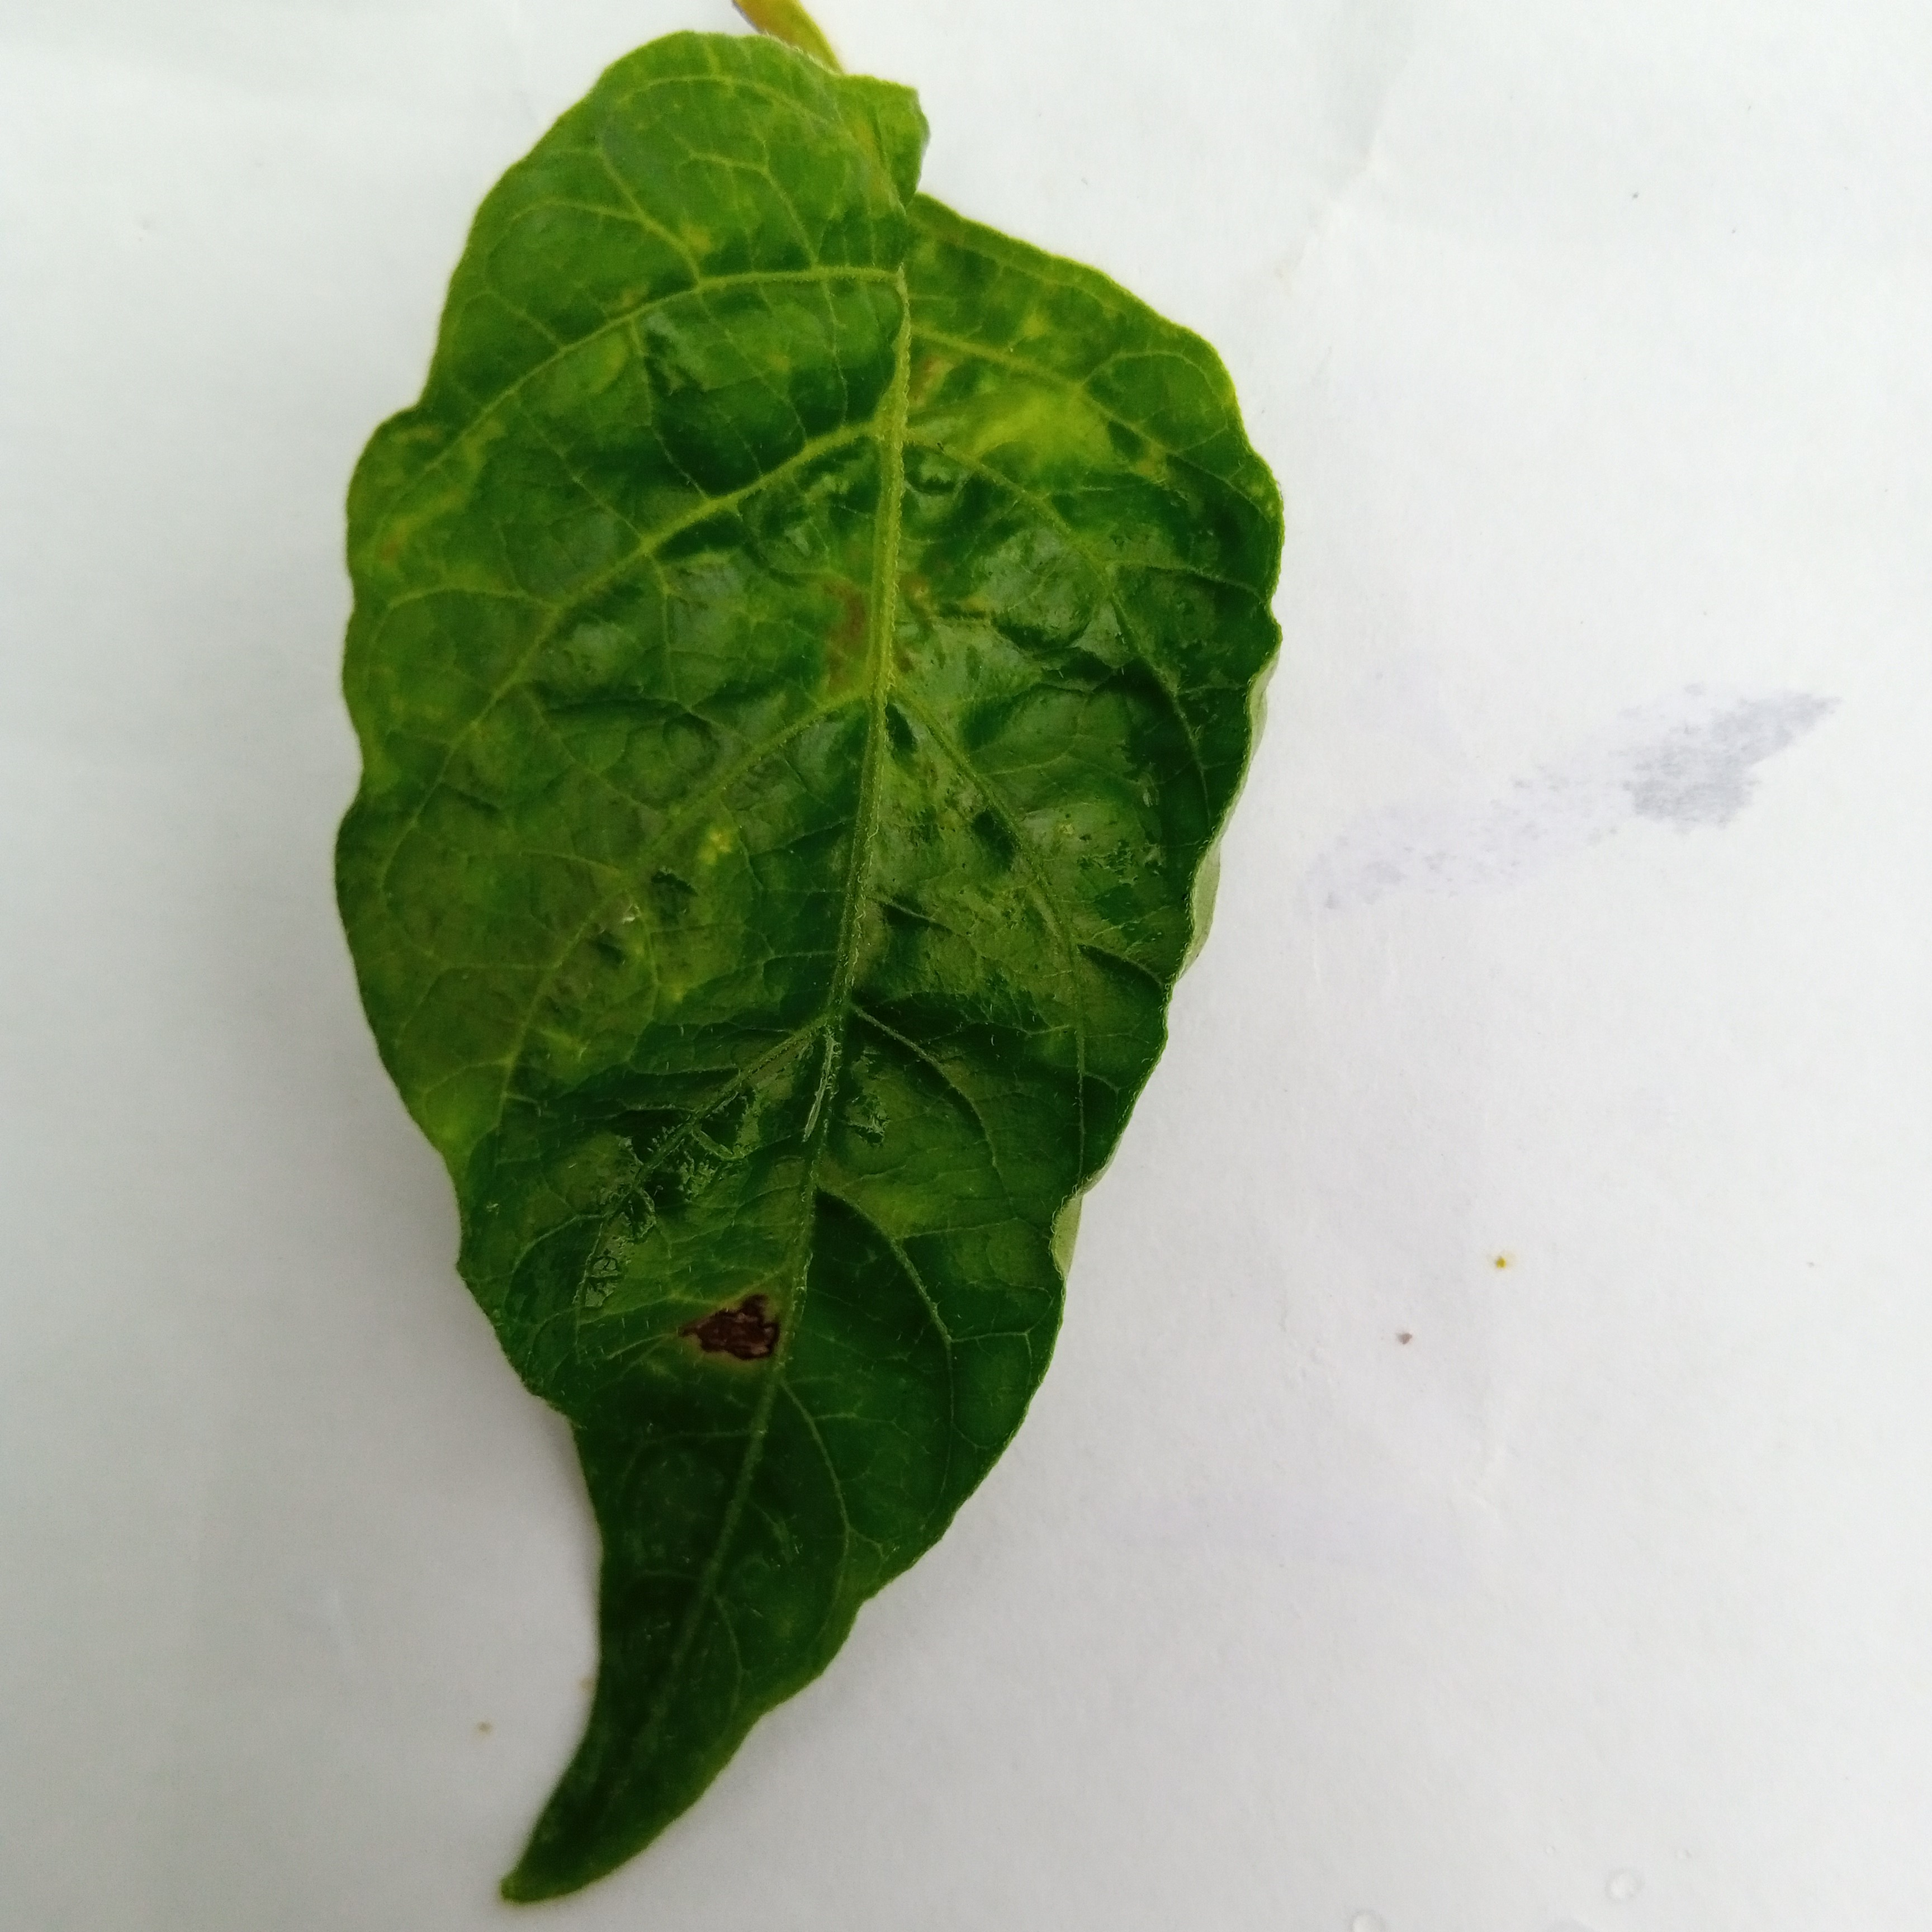Leaf: (145, 16, 1336, 1932)
